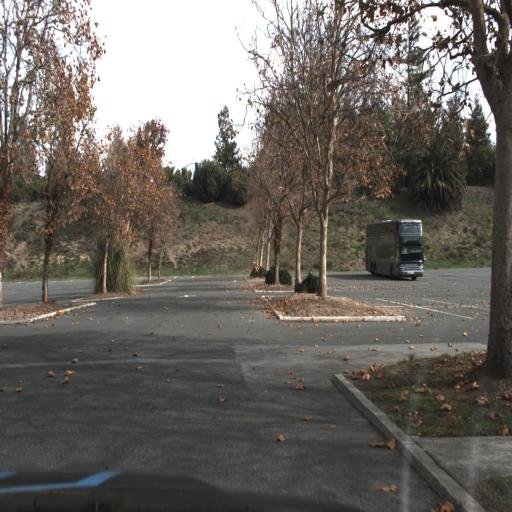truck: (363, 218, 426, 278)
